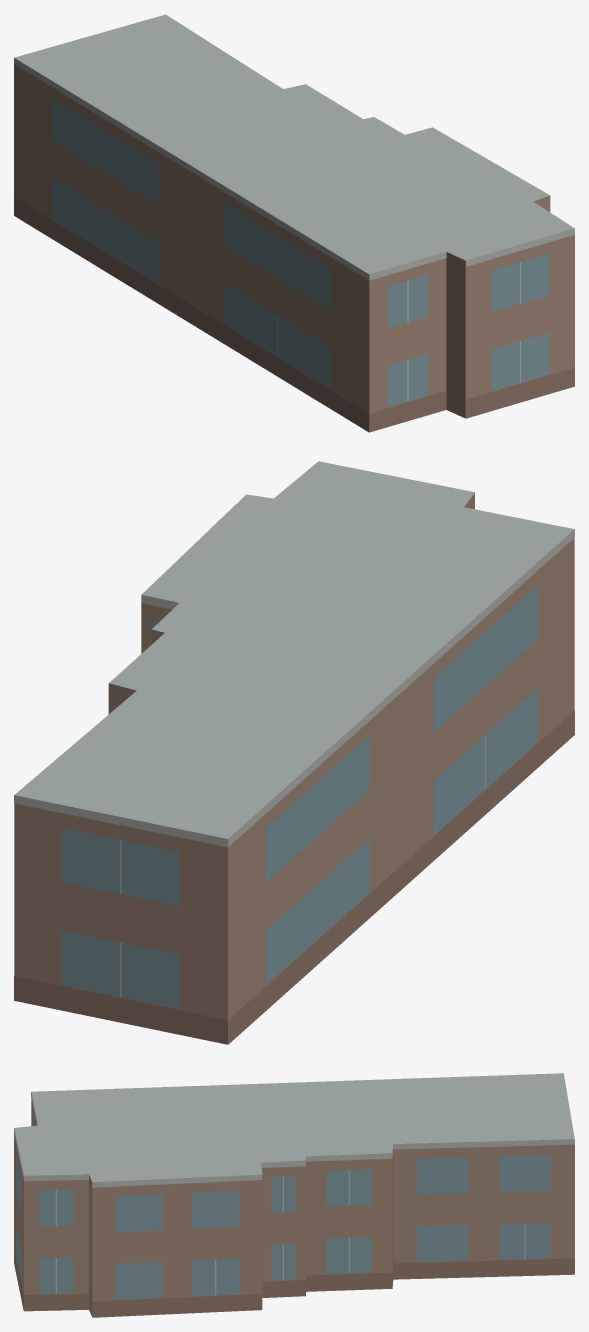
File: survey-upis-32698074.glb
3 renders of one model, top to bottom at view 1: azimuth 30°, elevation 25°; view 2: azimuth 150°, elevation 25°; view 3: azimuth 270°, elevation 25°, orthographic. The views are drawn at different scales.
Parts seen in each view (by area): view 1: survey-upis-32698074.tmp; view 2: survey-upis-32698074.tmp; view 3: survey-upis-32698074.tmp.
Part boxes in pixels (bbox=[...]): survey-upis-32698074.tmp: bbox=[14, 14, 574, 432]; survey-upis-32698074.tmp: bbox=[14, 461, 574, 1044]; survey-upis-32698074.tmp: bbox=[14, 1073, 574, 1317].
Bounding box in the file's own units: 10.55 × 6.1 × 22.9.
